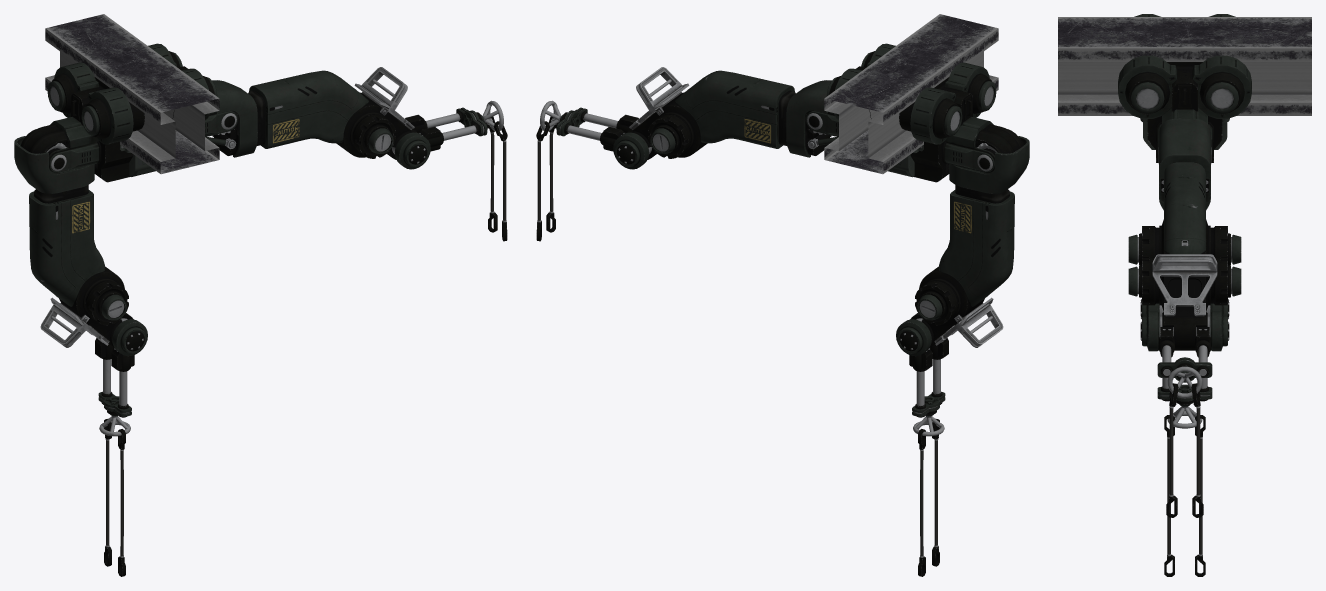
The picture shows the model from 3 angles, left to right: view 1: azimuth 30°, elevation 25°; view 2: azimuth 150°, elevation 25°; view 3: azimuth 270°, elevation 25°; orthographic projection. The views are drawn at different scales.
Parts seen in each view (by area): view 1: SP_Manip_mesh.004, Manip_side_closed.003, Manip_side_closed.004; view 2: SP_Manip_mesh.004, Manip_side_closed.003, Manip_side_closed.004; view 3: SP_Manip_mesh.004, Manip_side_closed.003, Manip_side_closed.004.
Boxes of the visible parts, x1,y1,x2,y2 form: SP_Manip_mesh.004: (45,14,503,174); Manip_side_closed.003: (14,62,155,436); Manip_side_closed.004: (104,116,507,576); SP_Manip_mesh.004: (540,14,998,174); Manip_side_closed.003: (888,62,1029,436); Manip_side_closed.004: (536,116,939,576); SP_Manip_mesh.004: (1058,17,1311,398); Manip_side_closed.003: (1128,14,1241,428); Manip_side_closed.004: (1164,383,1205,576).
Size of the model in its own units: 1.57 by 1.57 by 0.654.
3 materials, 3 textured.
